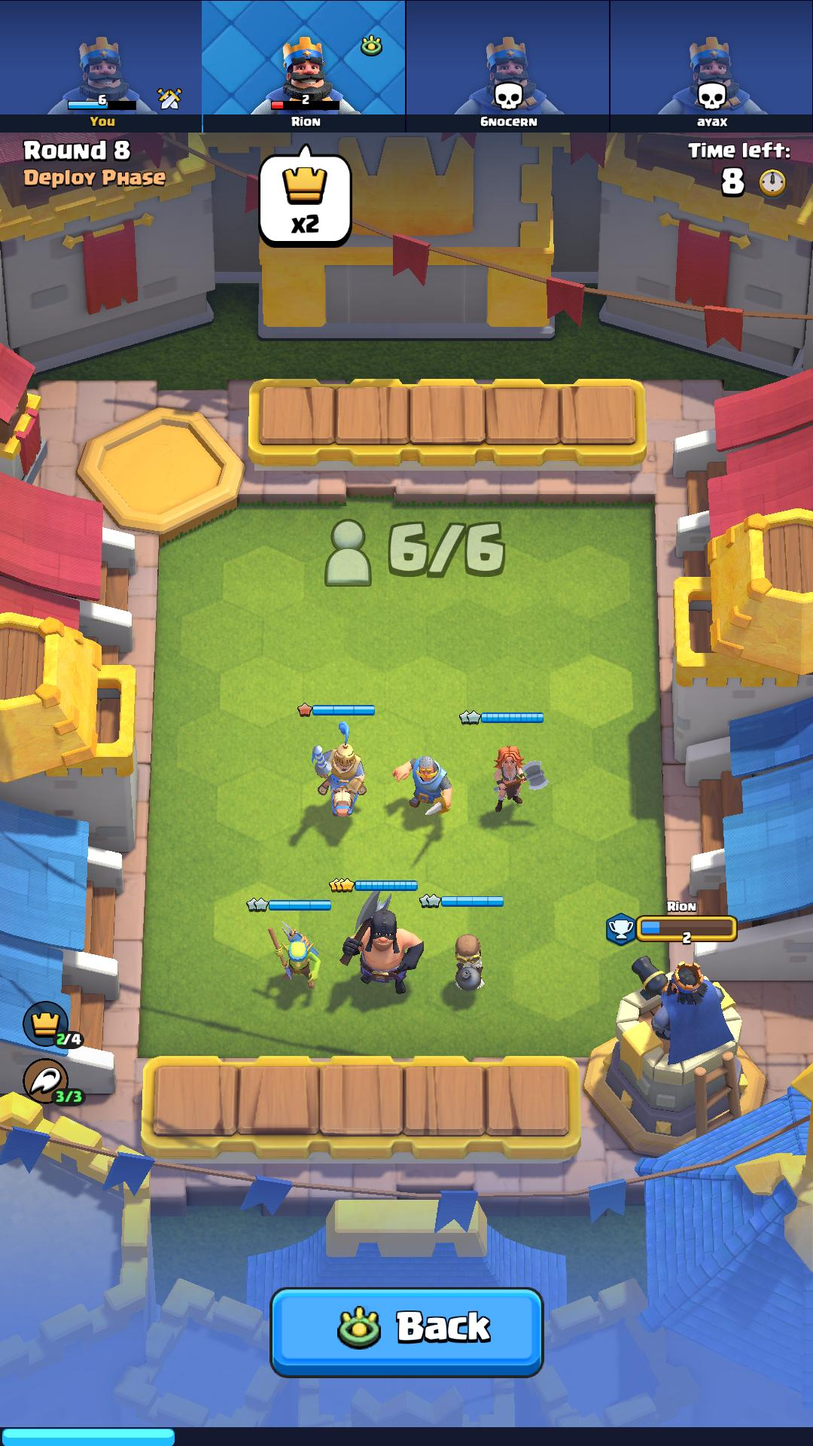bomber: (433, 923, 491, 992)
executioner: (336, 889, 425, 998)
knight: (382, 743, 459, 818)
prince: (302, 719, 377, 820)
spear: (258, 919, 329, 990)
valkyrie: (478, 740, 552, 818)
